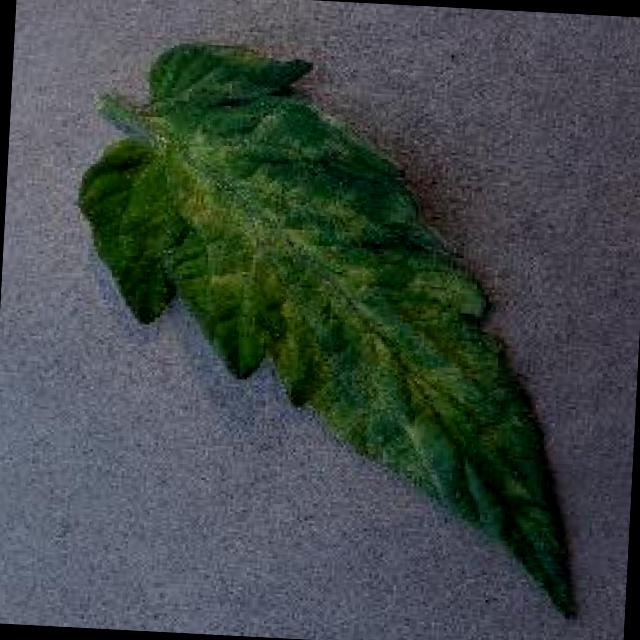leaf mold: (78, 41, 577, 625)
